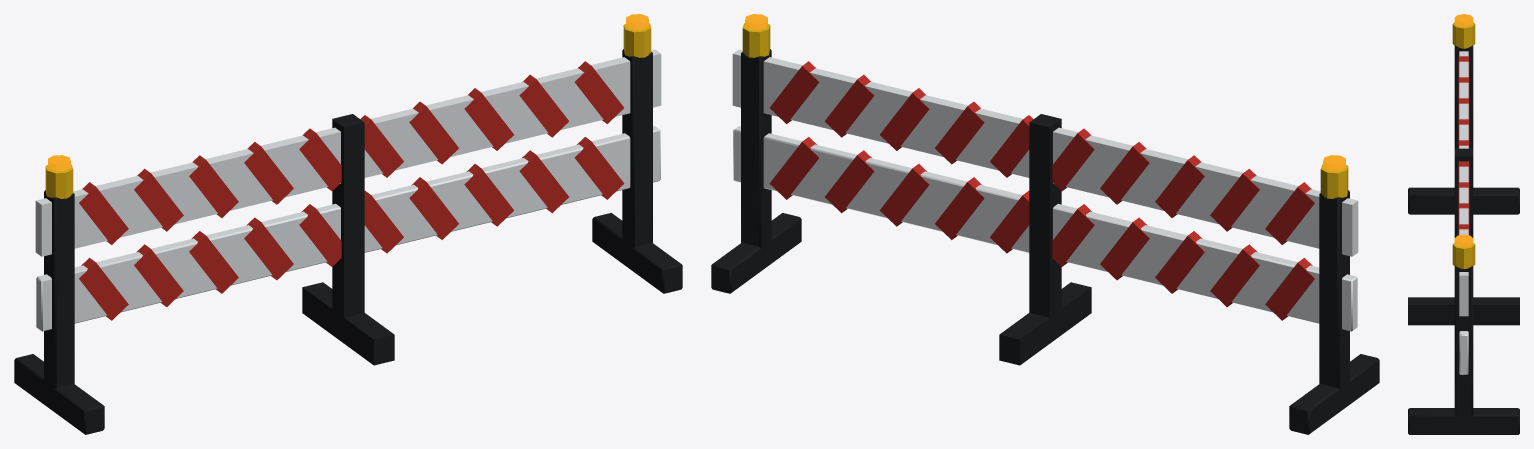
File: hangartool_safety_barrier.glb
3 renders of one model, left to right at view 1: azimuth 30°, elevation 25°; view 2: azimuth 150°, elevation 25°; view 3: azimuth 270°, elevation 25°, orthographic. The views are drawn at different scales.
Visible parts, largest first — view 1: hangartool_safety_barrier; view 2: hangartool_safety_barrier; view 3: hangartool_safety_barrier.
Part boxes in pixels (<box>): hangartool_safety_barrier: <box>14,14,682,434</box>; hangartool_safety_barrier: <box>711,14,1379,434</box>; hangartool_safety_barrier: <box>1408,14,1519,434</box>.
Bounding box in the file's own units: 3 × 1.14 × 0.6.
